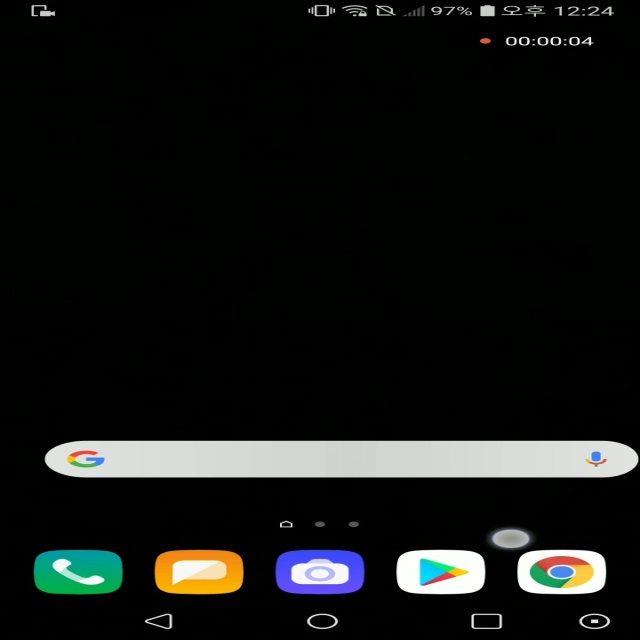Cursor: (490, 527, 535, 549)
